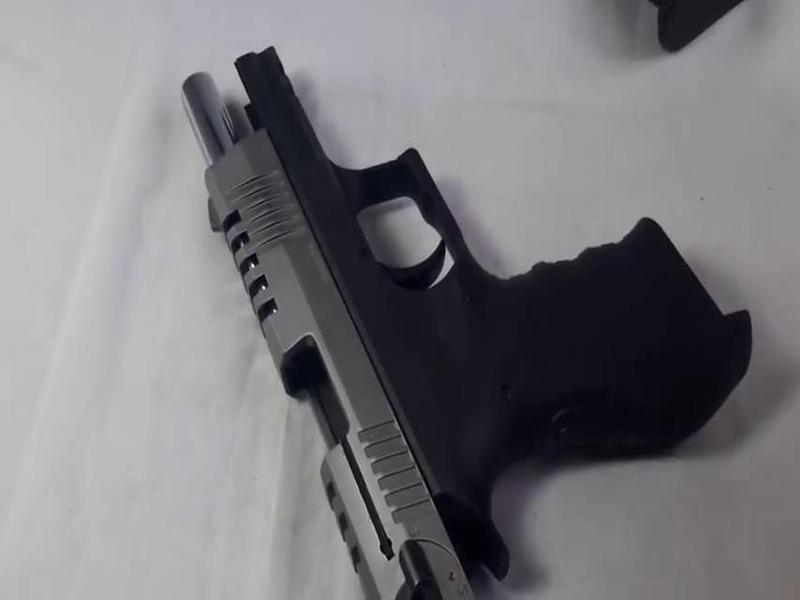Pistola: (152, 23, 786, 600)
